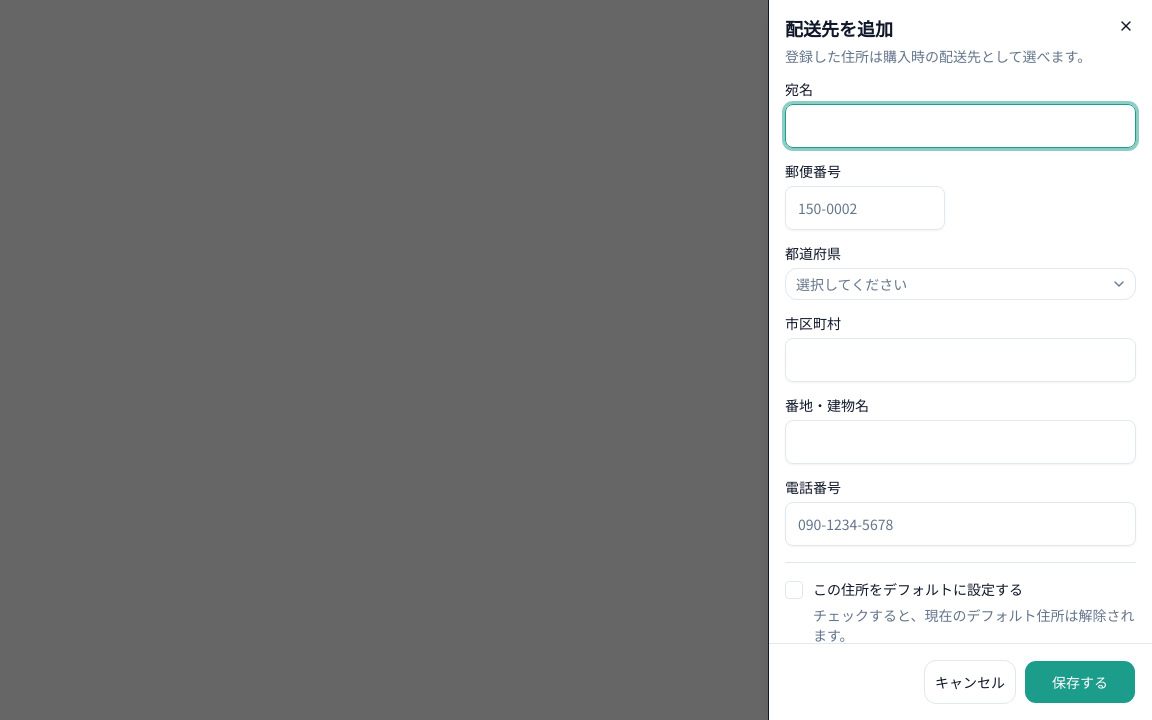
AddressFormSheet › 郵便番号の形式が不正ならバリデーションエラーを出し送信しない
The image size is (1152, 720).
Type "12345" into the field labelled "郵便番号" at (865, 208), box [785, 186, 945, 230]
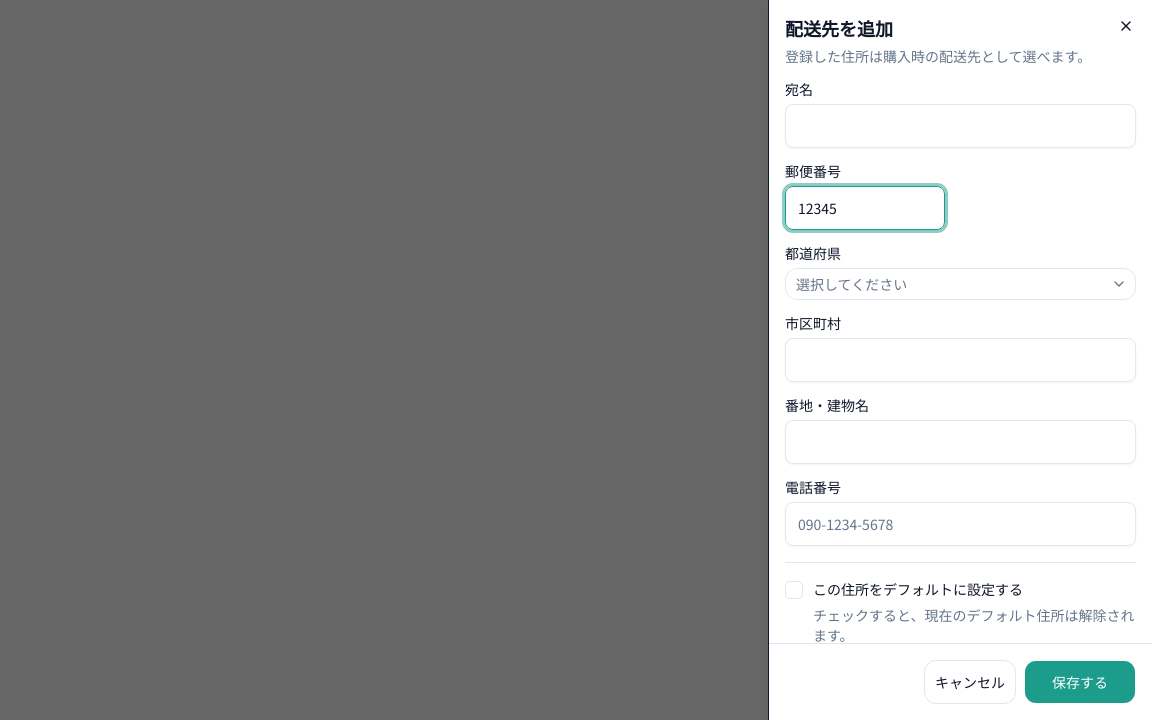
Click the button "保存する" at (1080, 682), box [1024, 660, 1136, 704]
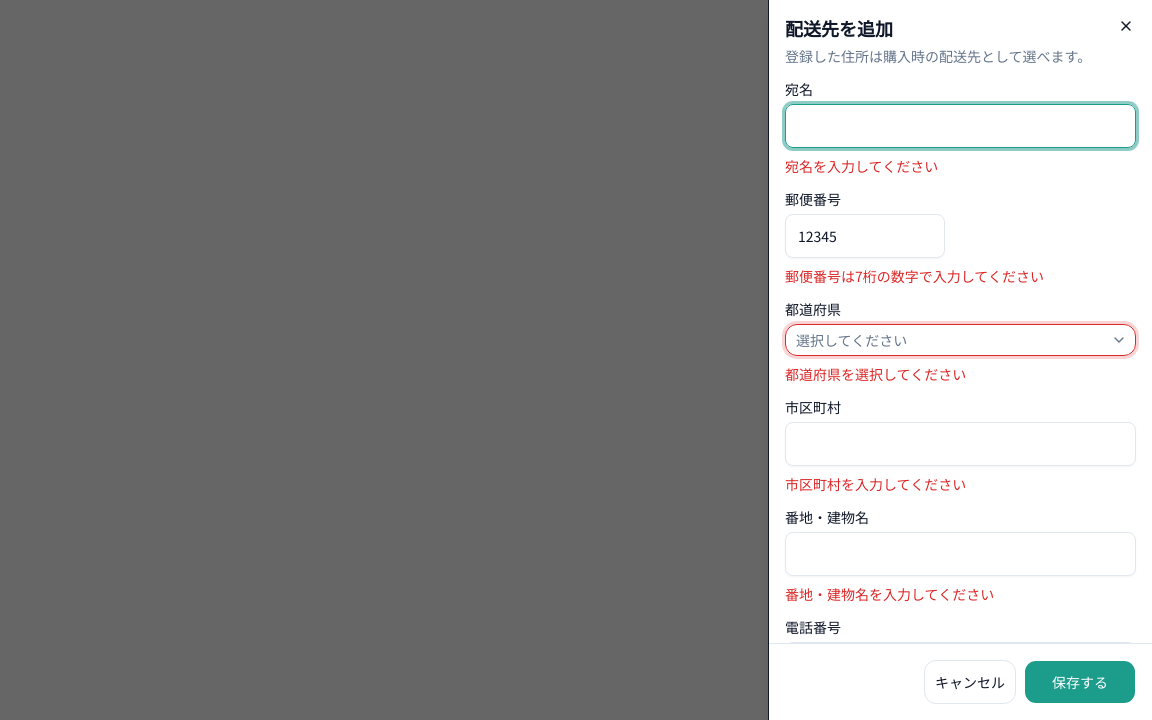
Expected: the text "郵便番号は7桁の数字で入力してください" is shown, [785, 266, 1044, 286]
